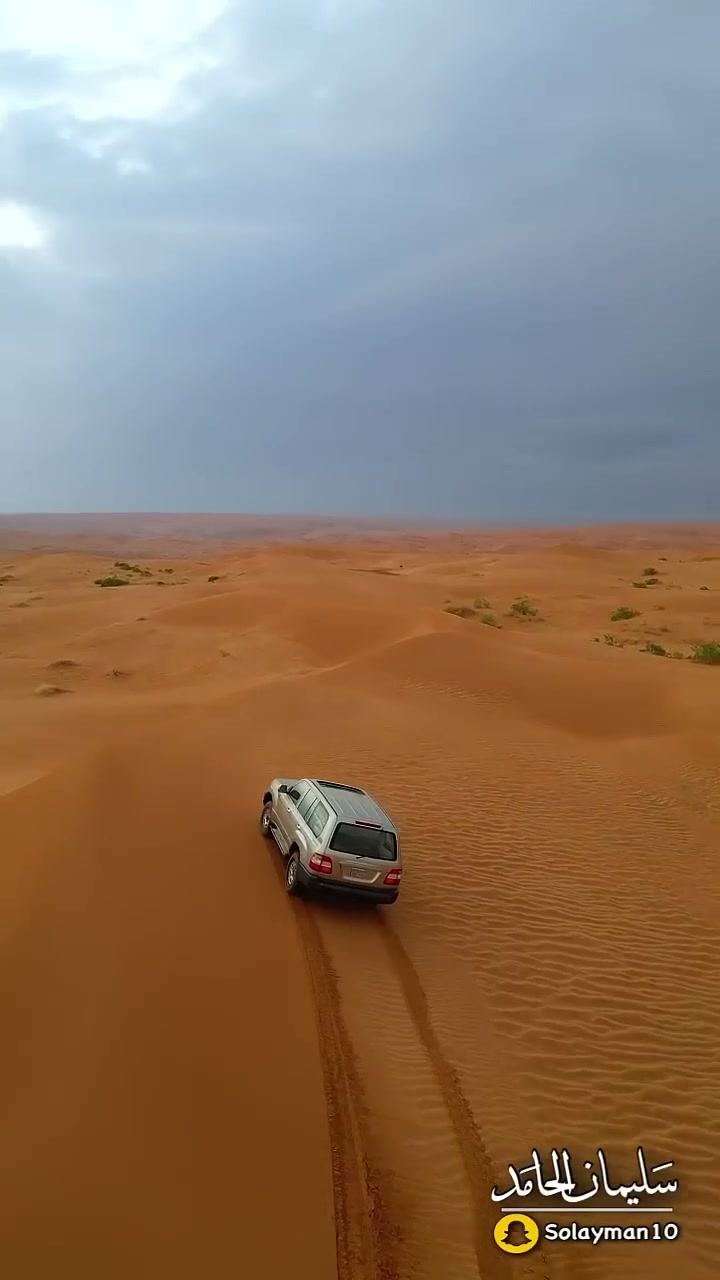vehicle_track: (311, 899, 478, 1279), (377, 916, 518, 1279), (292, 899, 417, 1279), (377, 918, 497, 1279), (291, 899, 398, 1279), (293, 903, 397, 1279)
